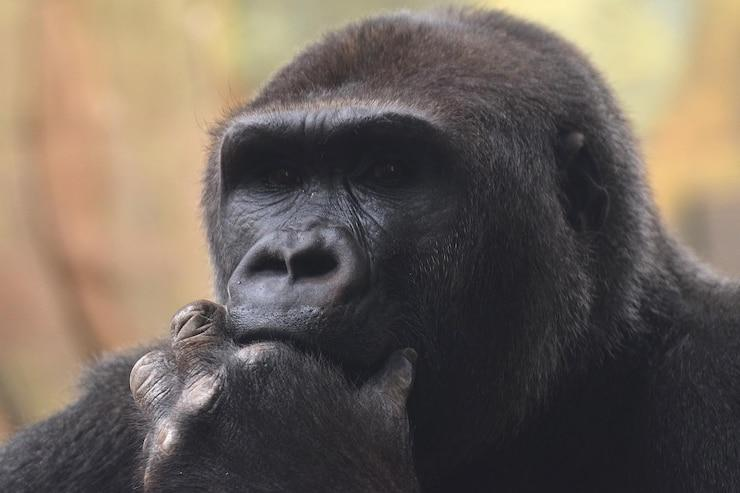gorille_Autres: (1, 2, 740, 493)
